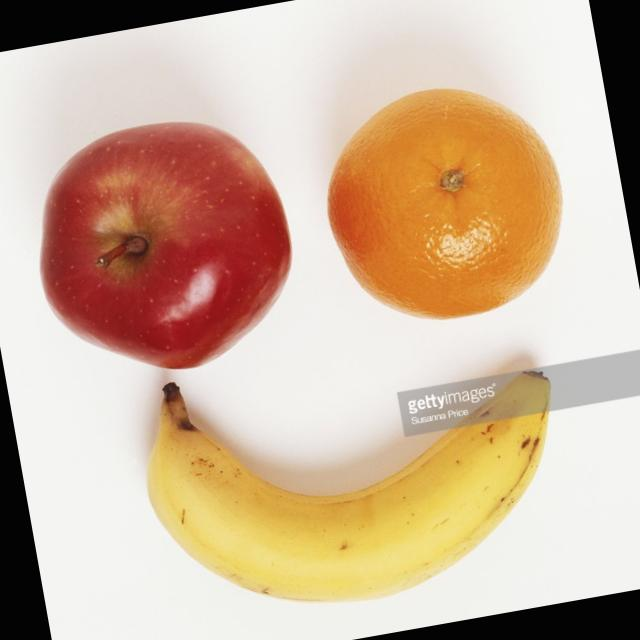apple: (12, 110, 300, 390)
banana: (124, 339, 582, 635)
orange: (310, 66, 594, 344)
